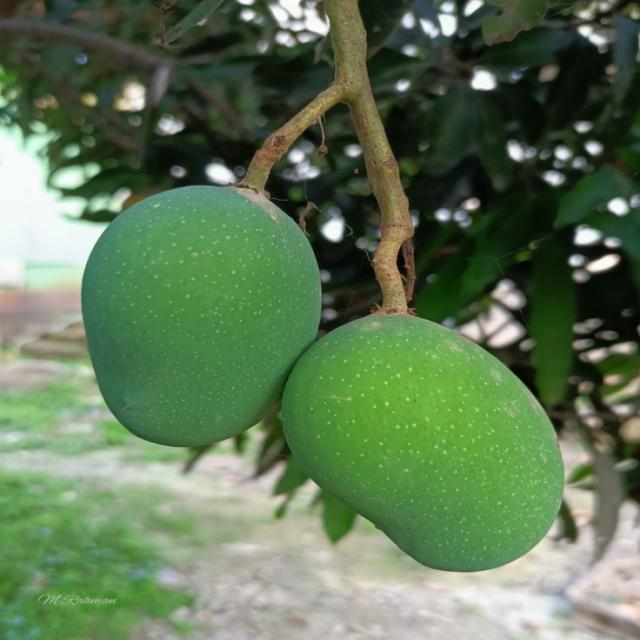mango: (283, 315, 563, 571), (82, 186, 320, 446)
